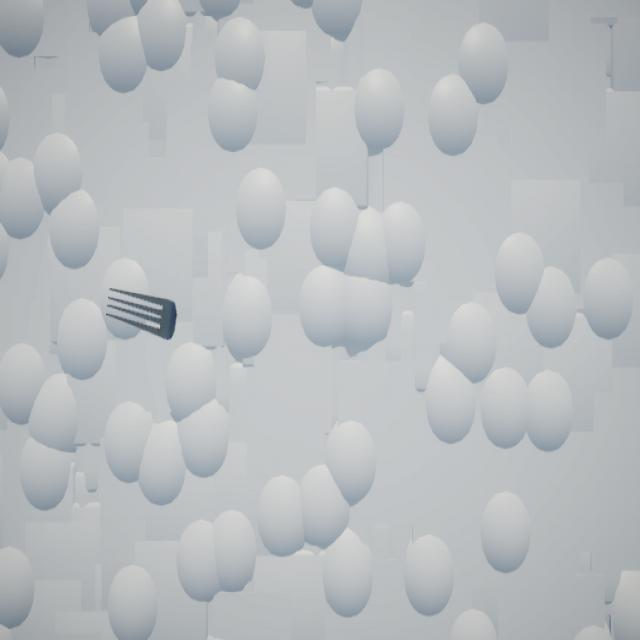top_folk: (107, 289, 178, 341)
